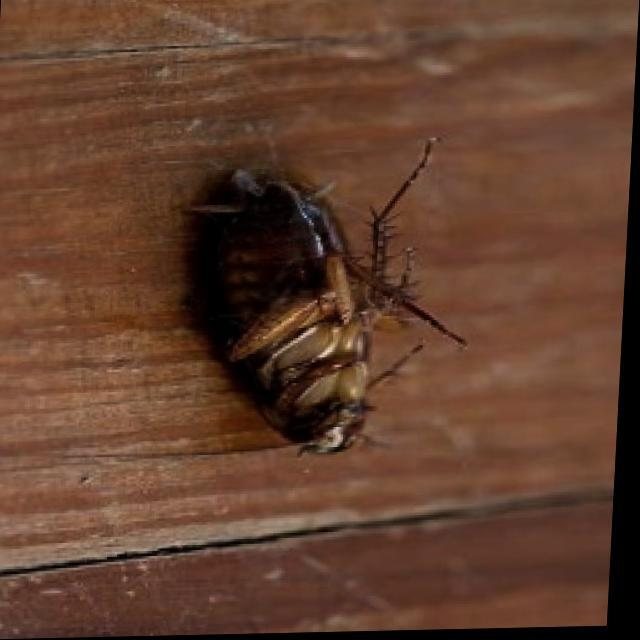cockroach: (174, 131, 474, 463)
